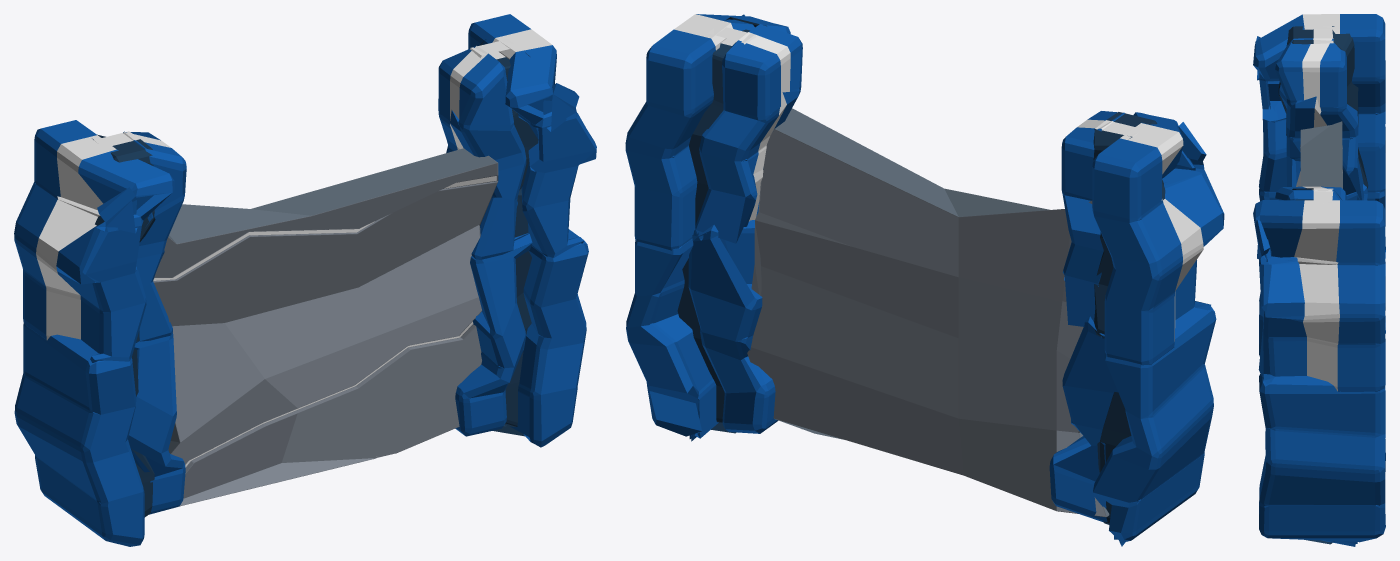
Rendered from ObstacleBroken.fbx.
The picture shows the model from 3 angles, left to right: view 1: azimuth 30°, elevation 25°; view 2: azimuth 150°, elevation 25°; view 3: azimuth 270°, elevation 25°; orthographic projection. The views are drawn at different scales.
Visible parts, largest first — view 1: MDL_Door.001, MDL_Obstacle.003, MDL_Obstacle.004; view 2: MDL_Door.001, MDL_Obstacle.003, MDL_Obstacle.004; view 3: MDL_Obstacle.004, MDL_Obstacle.003, MDL_Door.001.
Part boxes in pixels (x1,y1,x2,y2): MDL_Door.001: [153, 148, 498, 506]; MDL_Obstacle.003: [14, 120, 186, 546]; MDL_Obstacle.004: [438, 14, 596, 447]; MDL_Door.001: [747, 108, 1109, 517]; MDL_Obstacle.003: [1049, 111, 1224, 546]; MDL_Obstacle.004: [625, 14, 802, 441]; MDL_Obstacle.004: [1253, 186, 1385, 546]; MDL_Obstacle.003: [1253, 14, 1385, 356]; MDL_Door.001: [1296, 121, 1342, 188].
Size of the model in its own units: 644 by 460 by 162.
